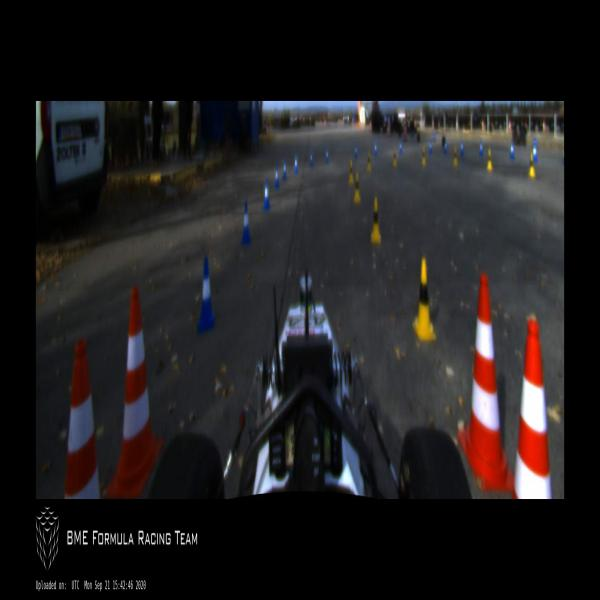blue_cone: (196, 253, 216, 331), (239, 200, 252, 244), (262, 176, 270, 209), (510, 138, 516, 159), (274, 164, 279, 188), (533, 141, 538, 163), (282, 159, 287, 179), (309, 148, 314, 166), (373, 138, 378, 155), (460, 137, 465, 154), (294, 154, 298, 174), (443, 138, 448, 154), (398, 140, 403, 156), (325, 146, 329, 164), (479, 140, 483, 157), (354, 144, 358, 160), (429, 139, 433, 154)
large_orange_cone: (458, 274, 518, 490), (105, 286, 164, 498), (510, 318, 552, 499), (63, 341, 102, 498)
yellow_cone: (412, 257, 436, 340), (370, 198, 382, 244), (353, 172, 362, 203), (486, 147, 493, 172), (528, 152, 535, 175), (347, 158, 353, 184), (366, 151, 372, 171), (392, 147, 397, 167), (453, 146, 458, 165), (421, 146, 426, 164)
